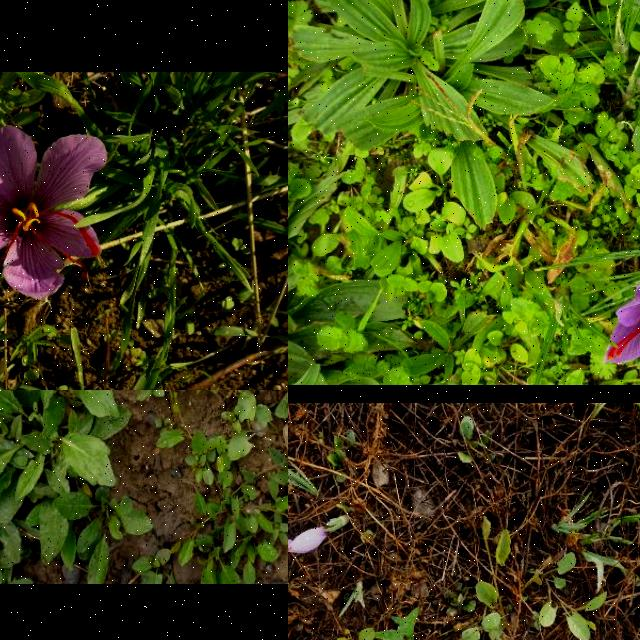flower: (0, 126, 108, 302), (604, 275, 640, 379), (288, 525, 329, 553), (635, 73, 640, 94)
